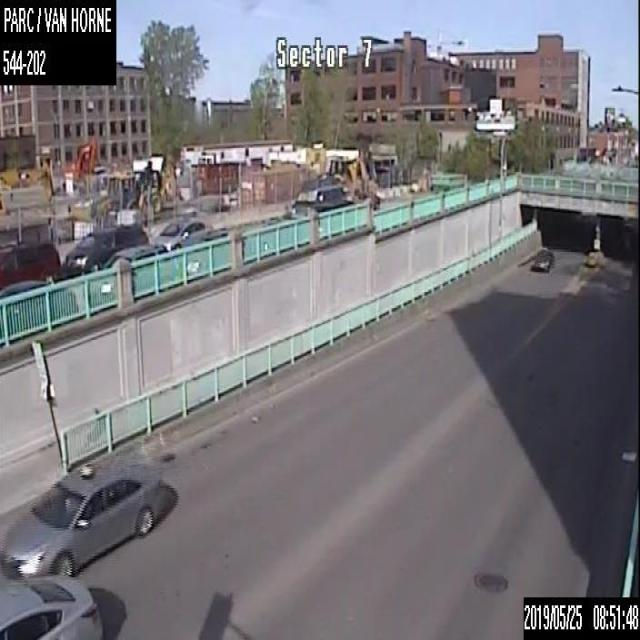vehicle: (0, 458, 165, 576), (291, 139, 380, 219), (0, 570, 102, 638), (84, 243, 173, 311), (0, 279, 77, 345), (64, 224, 148, 277), (174, 229, 244, 280), (0, 238, 60, 289), (152, 217, 213, 252), (530, 248, 554, 272)
